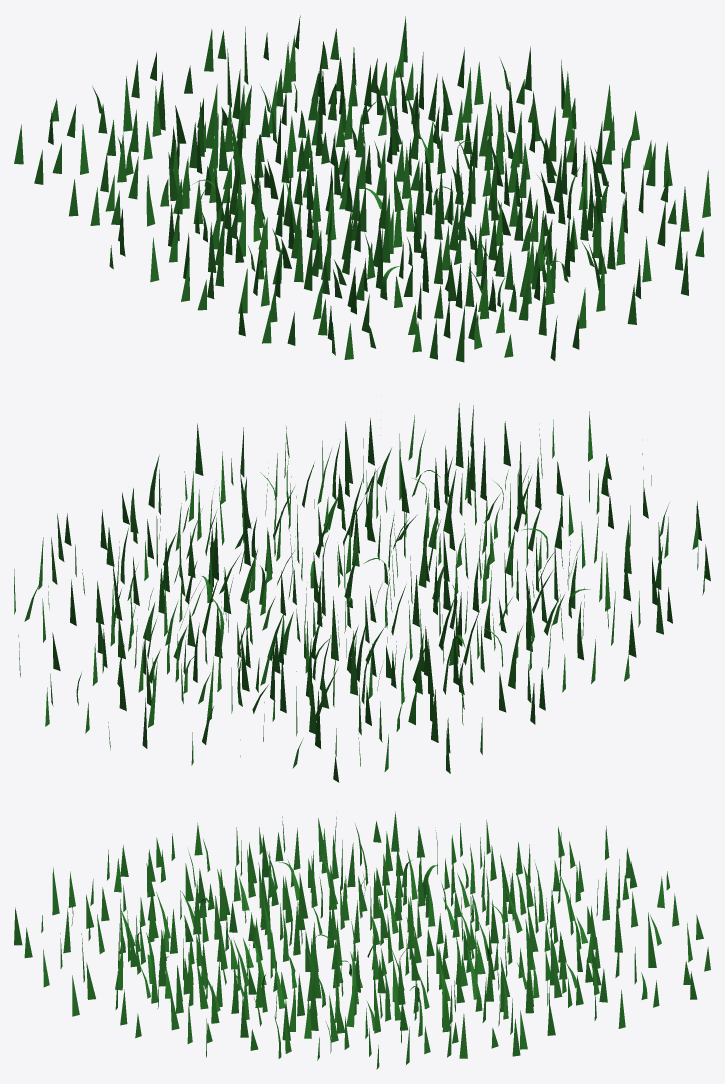
The model's file is grass_patches_set_ellipse_medum.fbx.
The picture shows the model from 3 angles, top to bottom: view 1: azimuth 30°, elevation 25°; view 2: azimuth 150°, elevation 25°; view 3: azimuth 270°, elevation 25°; orthographic projection. The views are drawn at different scales.
Size of the model in its own units: 516 by 62.03 by 667.
